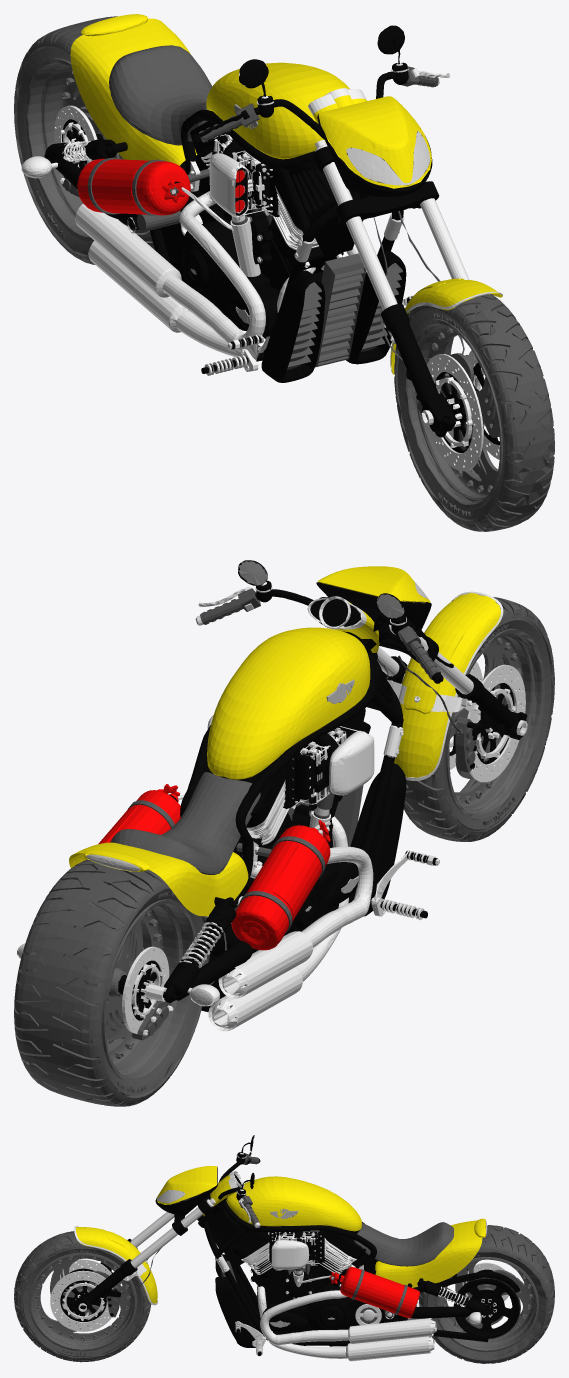
File: harley.glb
3 renders of one model, top to bottom at view 1: azimuth 30°, elevation 25°; view 2: azimuth 150°, elevation 25°; view 3: azimuth 270°, elevation 25°, orthographic. The views are drawn at different scales.
Visible parts, largest first — view 1: gum0__gum__gum, gum24__gum__gum, wheel__wheel__wheel, body__body__body, body2__body__body, body3__body__body, wheel0__wheel__wheel, silver21__silver__silver, gum27__gum__gum, silver__silver__silver, gum1__gum__gum, silver19__silver__silver (+36 smaller); view 2: gum27__gum__gum, body__body__body, wheel0__wheel__wheel, gum0__gum__gum, wheel__wheel__wheel, gum24__gum__gum, body0__body__body, red2__red__red, body2__body__body, black_m2__black_m__black_m, silver19__silver__silver, silver__silver__silver (+33 smaller); view 3: gum27__gum__gum, body__body__body, gum0__gum__gum, wheel__wheel__wheel, wheel0__wheel__wheel, body2__body__body, gum24__gum__gum, silver22__silver__silver, silver__silver__silver, black_m5__black_m__black_m, black_m32__black_m__black_m, silver24__silver__silver (+33 smaller).
Boxes of the visible parts, x1=… form: gum0__gum__gum: x1=394, y1=294, x2=554, y2=531; gum24__gum__gum: x1=109, y1=45, x2=212, y2=145; wheel__wheel__wheel: x1=404, y1=318, x2=502, y2=509; body__body__body: x1=206, y1=62, x2=349, y2=159; body2__body__body: x1=70, y1=18, x2=197, y2=165; body3__body__body: x1=318, y1=96, x2=431, y2=188; wheel0__wheel__wheel: x1=25, y1=58, x2=119, y2=241; silver21__silver__silver: x1=162, y1=191, x2=265, y2=351; gum27__gum__gum: x1=14, y1=16, x2=154, y2=264; silver__silver__silver: x1=421, y1=350, x2=499, y2=471; gum1__gum__gum: x1=315, y1=253, x2=365, y2=367; silver19__silver__silver: x1=88, y1=240, x2=315, y2=360; gum27__gum__gum: x1=14, y1=859, x2=209, y2=1106; body__body__body: x1=207, y1=627, x2=370, y2=779; wheel0__wheel__wheel: x1=102, y1=899, x2=196, y2=1082; gum0__gum__gum: x1=403, y1=597, x2=554, y2=841; wheel__wheel__wheel: x1=446, y1=628, x2=544, y2=819; gum24__gum__gum: x1=110, y1=772, x2=260, y2=874; body0__body__body: x1=394, y1=593, x2=500, y2=777; red2__red__red: x1=231, y1=825, x2=330, y2=950; body2__body__body: x1=69, y1=842, x2=248, y2=916; black_m2__black_m__black_m: x1=234, y1=650, x2=402, y2=903; silver19__silver__silver: x1=208, y1=816, x2=348, y2=1031; silver__silver__silver: x1=449, y1=661, x2=527, y2=782; gum27__gum__gum: x1=418, y1=1225, x2=554, y2=1363; body__body__body: x1=226, y1=1176, x2=361, y2=1231; gum0__gum__gum: x1=14, y1=1231, x2=151, y2=1362; wheel__wheel__wheel: x1=28, y1=1252, x2=137, y2=1351; wheel0__wheel__wheel: x1=434, y1=1257, x2=538, y2=1352; body2__body__body: x1=375, y1=1220, x2=482, y2=1287; gum24__gum__gum: x1=354, y1=1222, x2=454, y2=1266; silver22__silver__silver: x1=257, y1=1286, x2=434, y2=1361; silver__silver__silver: x1=50, y1=1259, x2=113, y2=1331; black_m5__black_m__black_m: x1=203, y1=1201, x2=376, y2=1345; black_m32__black_m__black_m: x1=453, y1=1278, x2=519, y2=1338; silver24__silver__silver: x1=260, y1=1290, x2=348, y2=1345.
Size of the model in its own units: 0.7578 by 1.04 by 2.5.
